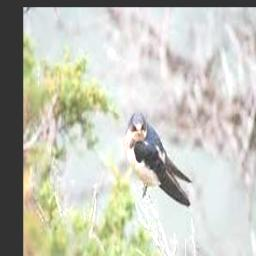Swallow: (126, 111, 193, 205)
